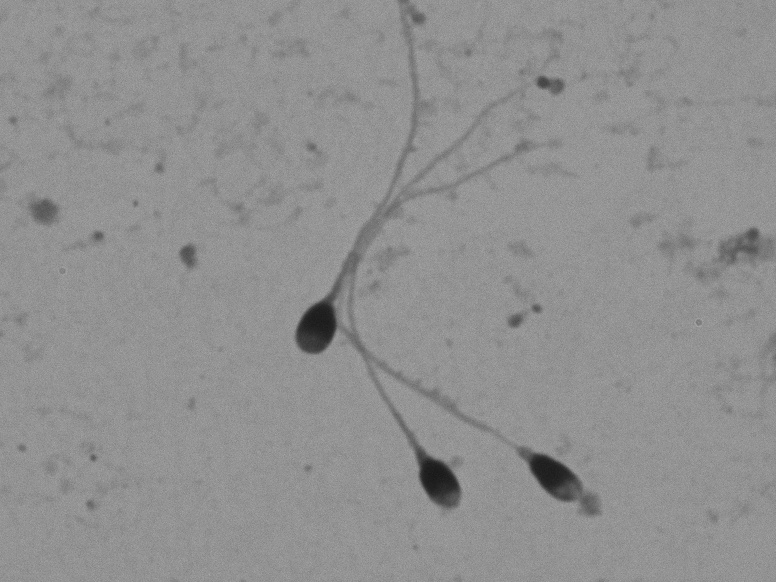Abnormal: (331, 320, 599, 527)
Normal: (333, 62, 570, 526), (274, 13, 435, 372)
